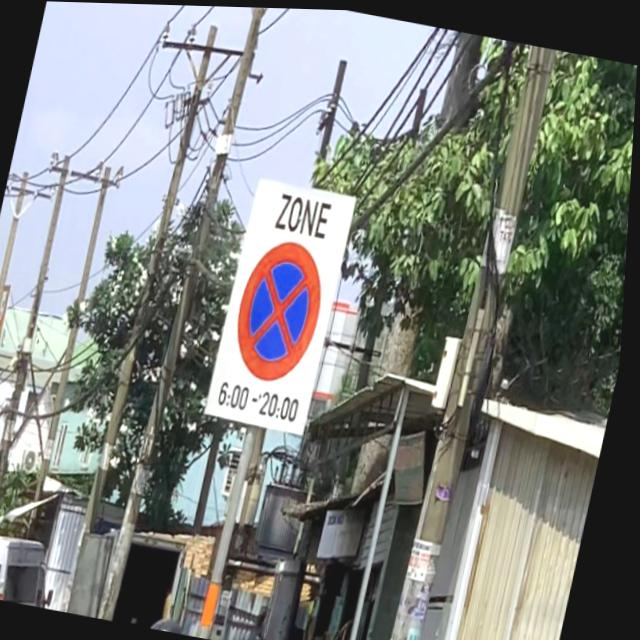Cam dung xe va do xe: (225, 226, 341, 391)
